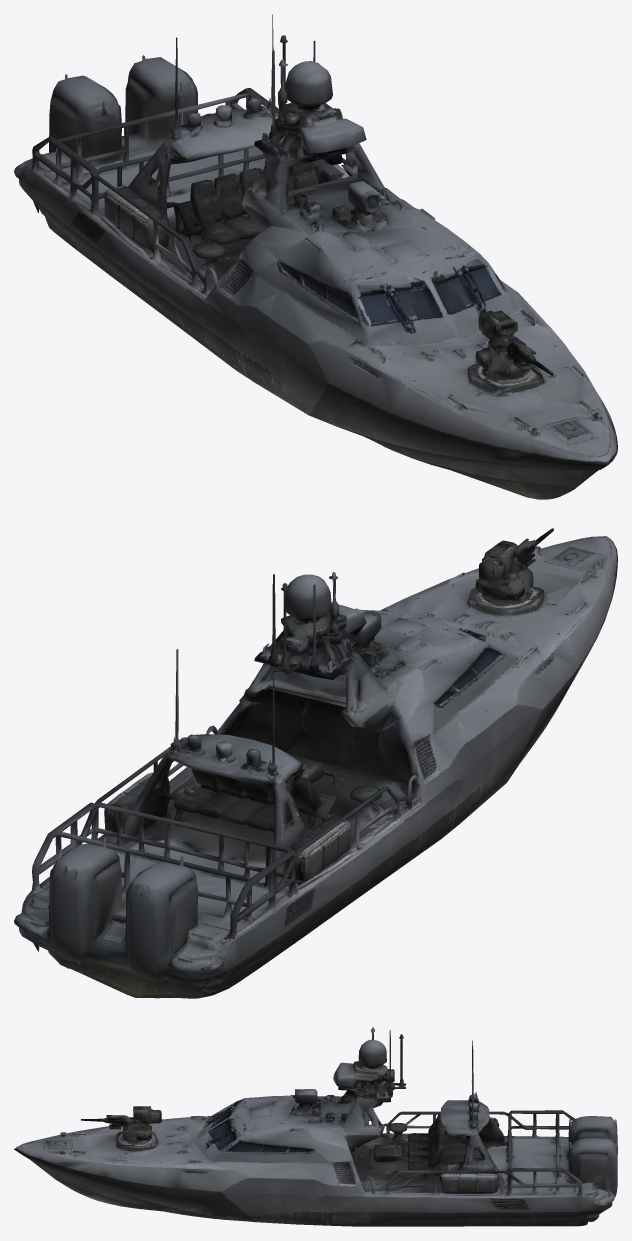
The model's file is boat_stealth.glb.
The picture shows the model from 3 angles, top to bottom: view 1: azimuth 30°, elevation 25°; view 2: azimuth 150°, elevation 25°; view 3: azimuth 270°, elevation 25°; orthographic projection. The views are drawn at different scales.
Visible parts, largest first — view 1: geometry_0; view 2: geometry_0; view 3: geometry_0.
Boxes of the visible parts, box(x1,y1,x2,y2) form: geometry_0: box(14, 14, 617, 499); geometry_0: box(14, 528, 617, 998); geometry_0: box(14, 1027, 617, 1226).
Bounding box in the file's own units: 0.2936 × 0.3911 × 1.17.
Materials: 1 (1 with a texture image).
